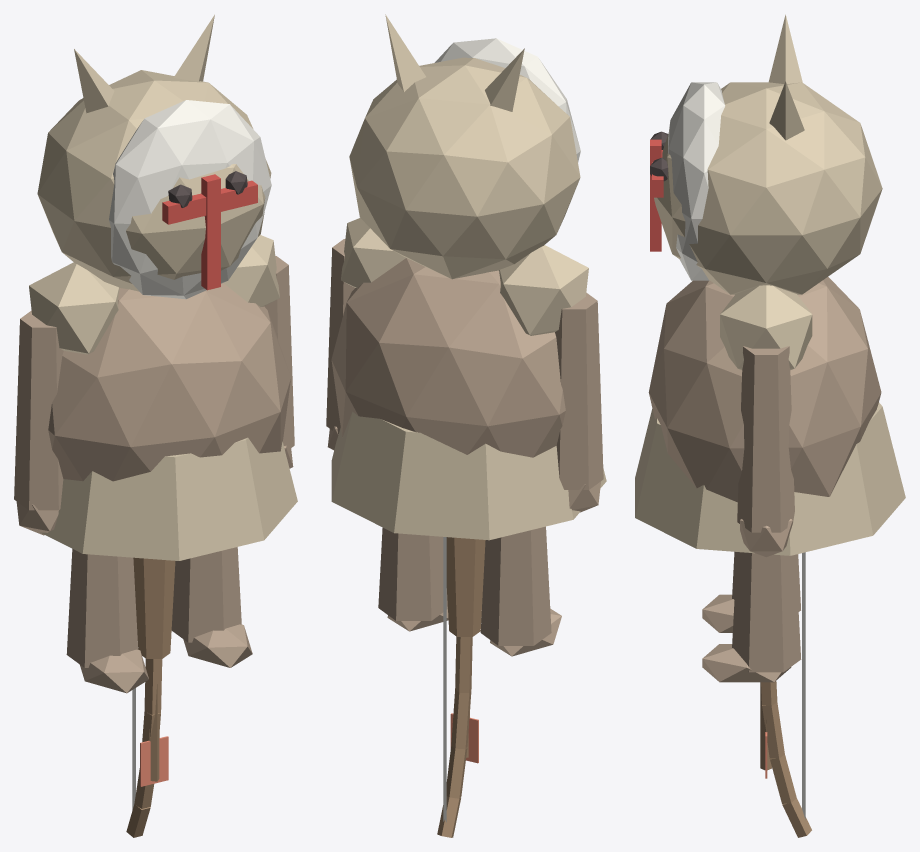
Rendered from goblin.glb.
3 renders of one model, left to right at view 1: azimuth 30°, elevation 25°; view 2: azimuth 150°, elevation 25°; view 3: azimuth 270°, elevation 25°, orthographic. The views are drawn at different scales.
Visible parts, largest first — view 1: GobBody, GobHead, GobLegR, GobArmR, GobLegL, GobClub, GobBow, GobArmL, Arrow; view 2: GobBody, GobHead, GobArmR, GobLegR, GobLegL, GobBow, GobClub, GobArmL, Arrow; view 3: GobBody, GobHead, GobArmL, GobLegL, GobBow, GobLegR, Arrow.
Part boxes in pixels (bbox=[...]): GobBody: bbox=[29, 235, 297, 560]; GobHead: bbox=[37, 14, 271, 299]; GobLegR: bbox=[66, 549, 148, 693]; GobArmR: bbox=[14, 310, 63, 535]; GobLegL: bbox=[171, 547, 252, 667]; GobClub: bbox=[133, 557, 175, 658]; GobBow: bbox=[126, 659, 162, 837]; GobArmL: bbox=[264, 256, 294, 468]; Arrow: bbox=[140, 684, 168, 786]; GobBody: bbox=[331, 218, 606, 540]; GobHead: bbox=[349, 14, 580, 279]; GobArmR: bbox=[555, 292, 603, 512]; GobLegR: bbox=[480, 526, 561, 656]; GobLegL: bbox=[378, 528, 448, 631]; GobBow: bbox=[437, 537, 472, 837]; GobClub: bbox=[446, 537, 485, 636]; GobArmL: bbox=[326, 239, 354, 450]; Arrow: bbox=[450, 708, 478, 763]; GobBody: bbox=[635, 277, 905, 555]; GobHead: bbox=[650, 14, 882, 294]; GobArmL: bbox=[737, 346, 794, 557]; GobLegL: bbox=[702, 552, 801, 682]; GobBow: bbox=[761, 552, 811, 837]; GobLegR: bbox=[702, 551, 800, 632]; Arrow: bbox=[760, 682, 771, 778].
Bounding box in the file's own units: 0.7831 × 2.24 × 0.6983.
